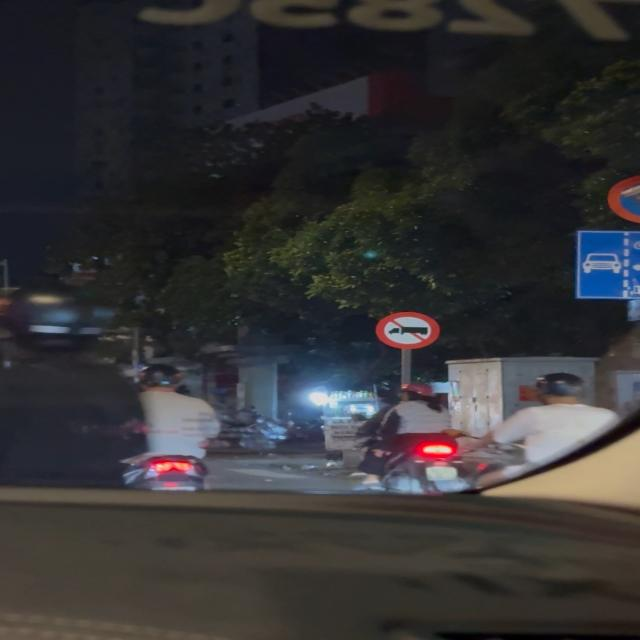Bien bao cam xe so-mi ro-mooc: (372, 309, 445, 351)
